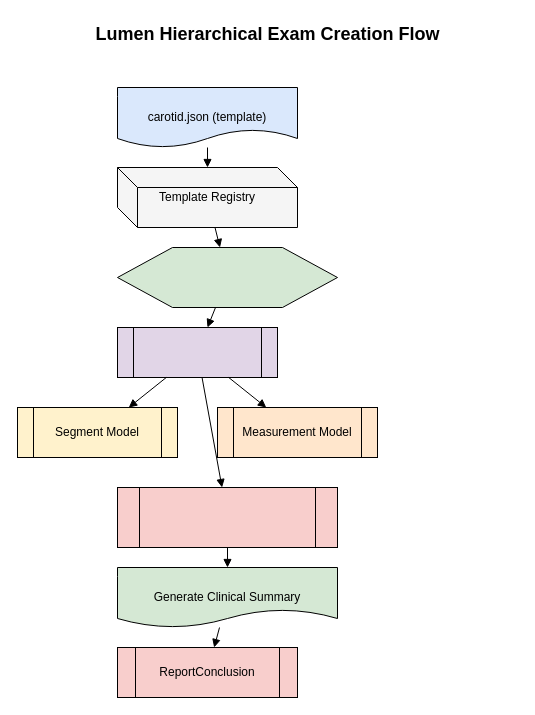
This 535x715 diagram has some shape labels left out. Each missing label, with the box of its shape:
create_exam_from_template(): (116, 246, 338, 308)
Exam Model: (116, 326, 278, 378)
ICA/CCA Ratio + Stenosis Logic: (116, 486, 338, 548)
